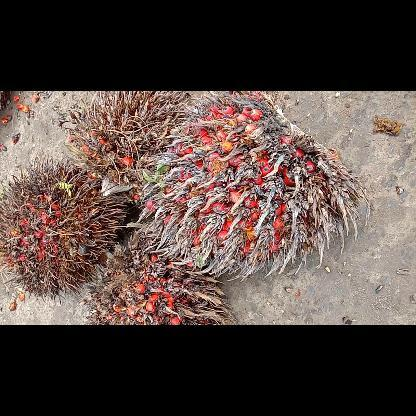Terlalu masak: (134, 90, 371, 284), (0, 150, 135, 307), (63, 90, 197, 209), (77, 240, 241, 324)
